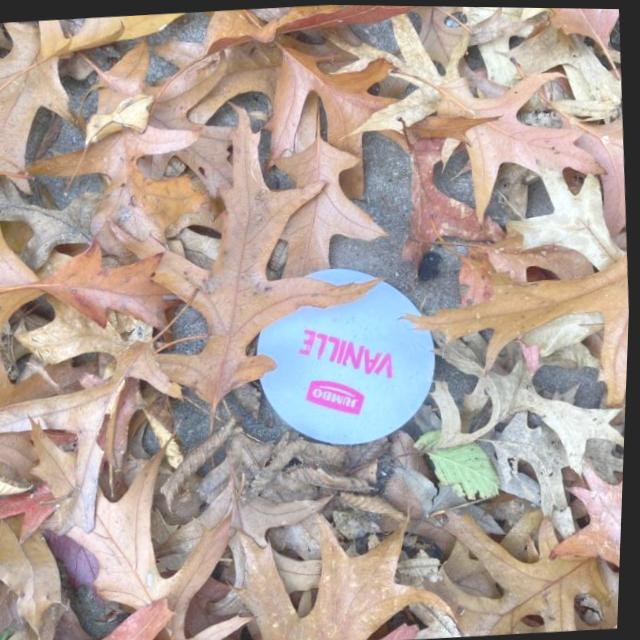Paper: (247, 257, 448, 452)
